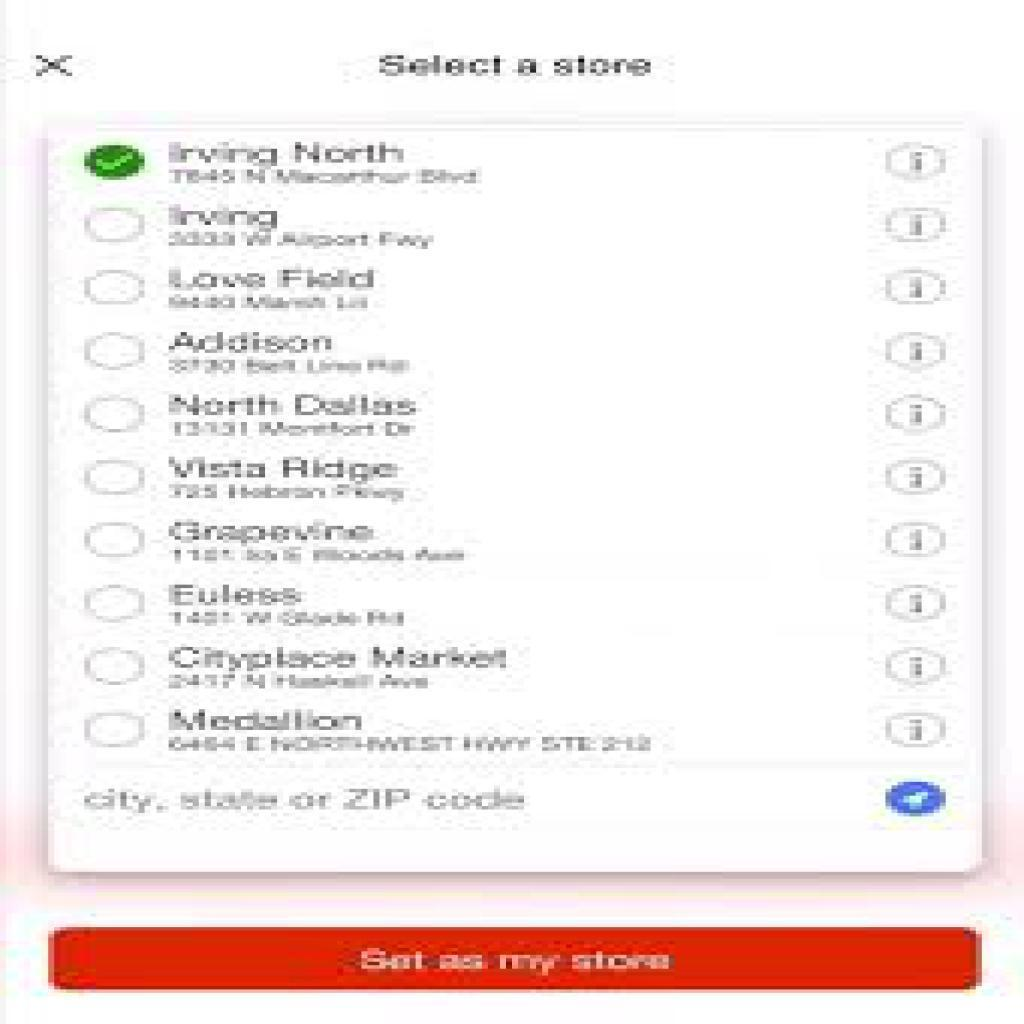button: (42, 926, 986, 995)
icon: (882, 454, 951, 500), (882, 777, 951, 821), (885, 711, 951, 755), (887, 392, 950, 437), (885, 518, 949, 562), (885, 141, 947, 185), (885, 206, 951, 246), (884, 584, 949, 624), (887, 648, 947, 691), (885, 332, 948, 371), (885, 269, 949, 307)
radio: (72, 576, 154, 630), (75, 641, 155, 694), (79, 703, 157, 756), (77, 516, 149, 566), (79, 138, 155, 183), (77, 271, 151, 313), (83, 456, 149, 503), (84, 394, 151, 440), (83, 204, 150, 249), (81, 331, 150, 374)
